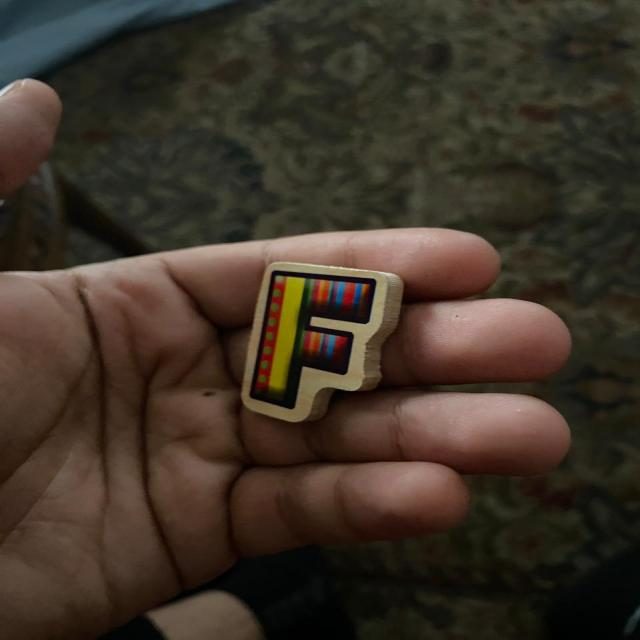F: (242, 263, 403, 422)
